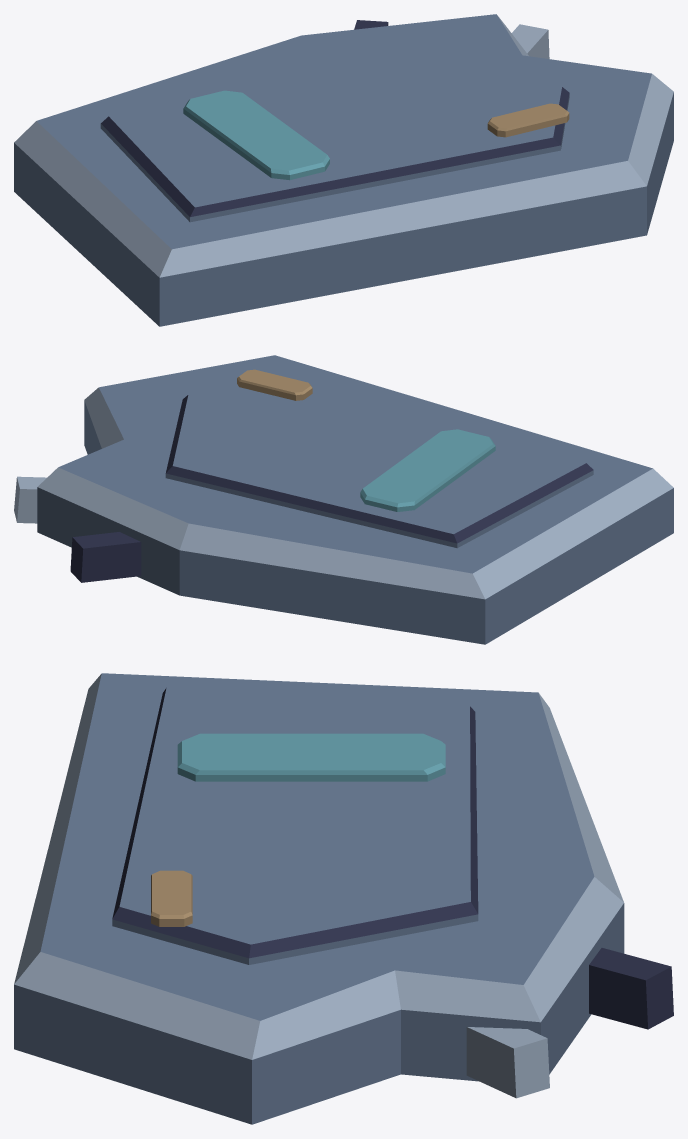
The model's file is station_armor_plate.glb.
3 views of the same model, one above another, from view 1: azimuth 30°, elevation 25°; view 2: azimuth 150°, elevation 25°; view 3: azimuth 270°, elevation 25° (orthographic). The views are drawn at different scales.
Visible parts, largest first — view 1: station_armor_plate; view 2: station_armor_plate; view 3: station_armor_plate.
Part boxes in pixels (<box>): station_armor_plate: <box>14,14,673,326</box>; station_armor_plate: <box>14,355,673,644</box>; station_armor_plate: <box>14,673,673,1124</box>.
Bounding box in the file's own units: 2.95 × 0.4499 × 2.22.
